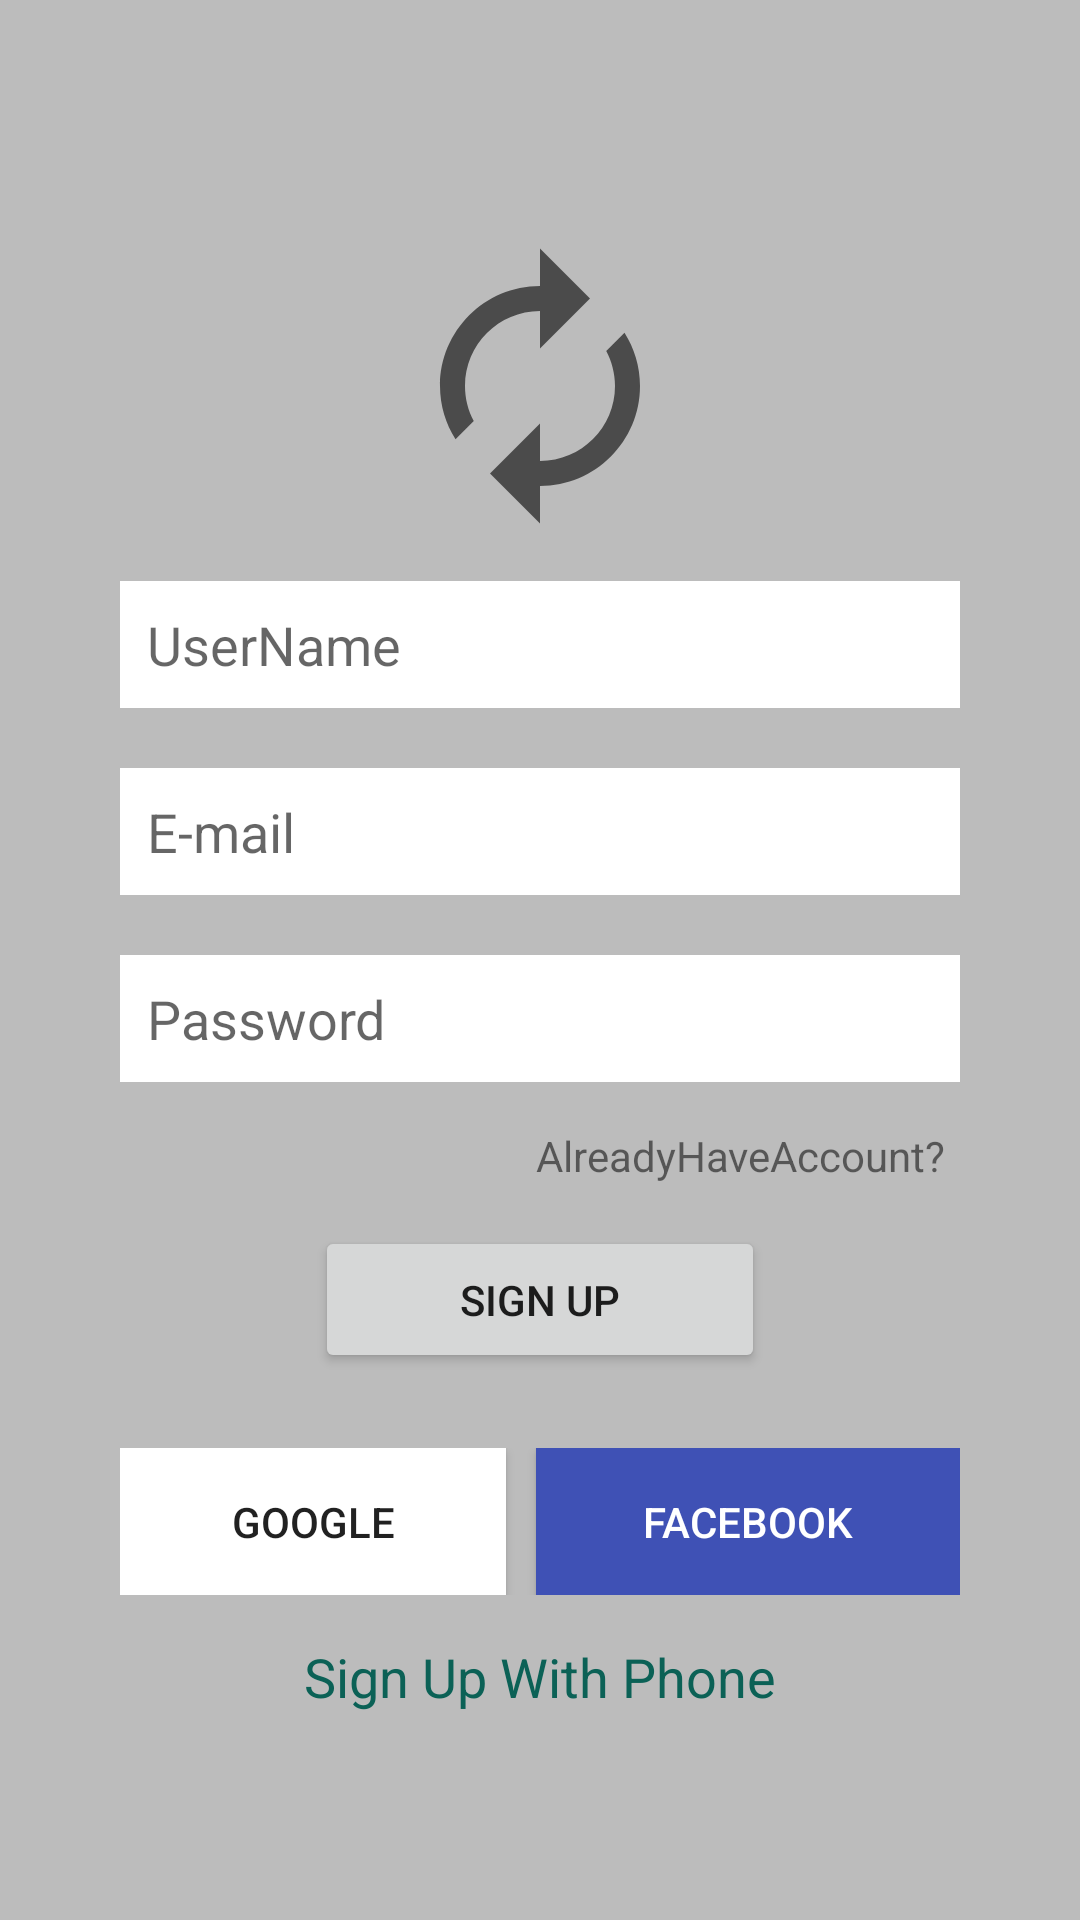

Icons on this 1080w x 1920h Android screen, each with the point to tap as (x=x, y=y):
autorenew: (x=540, y=386)
